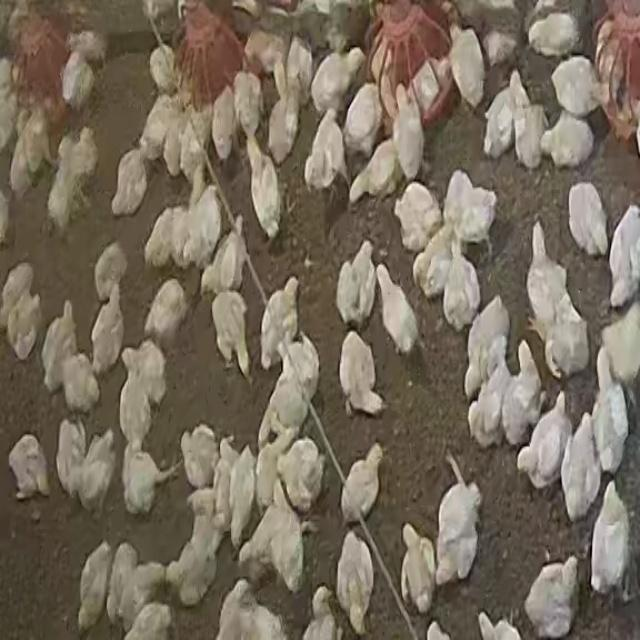chicken: (436, 444, 483, 590), (515, 389, 572, 497), (336, 331, 392, 425), (463, 296, 509, 403), (590, 351, 630, 474), (526, 222, 568, 338), (590, 482, 632, 597), (523, 554, 580, 638), (558, 408, 600, 519), (376, 262, 422, 362), (443, 168, 499, 250), (120, 440, 178, 519), (506, 338, 547, 446), (543, 289, 590, 382), (334, 530, 376, 634), (337, 440, 388, 525), (256, 273, 302, 367), (275, 434, 326, 516), (245, 132, 282, 244), (215, 581, 285, 639), (303, 108, 348, 198), (439, 239, 482, 333), (113, 546, 162, 628), (308, 47, 364, 118), (1, 265, 42, 361), (336, 233, 376, 331), (210, 289, 252, 381), (200, 219, 247, 300), (181, 183, 224, 271), (40, 301, 79, 398), (89, 285, 127, 379), (77, 539, 115, 633), (446, 24, 486, 113), (349, 140, 402, 207), (606, 204, 640, 307), (393, 182, 441, 254), (600, 299, 640, 385), (540, 111, 596, 172), (399, 524, 436, 616), (548, 55, 600, 120), (566, 183, 608, 261), (143, 280, 188, 352), (392, 84, 424, 184), (342, 80, 382, 158), (226, 442, 258, 537), (7, 433, 51, 502), (179, 423, 220, 492), (109, 148, 149, 218), (482, 83, 516, 162), (144, 206, 180, 270), (210, 83, 238, 165), (524, 17, 578, 58), (93, 242, 128, 304)
